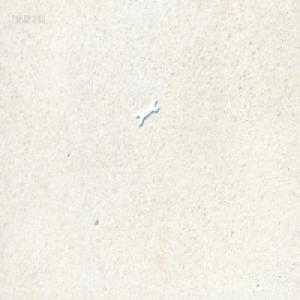Wrench: (135, 99, 158, 127)
